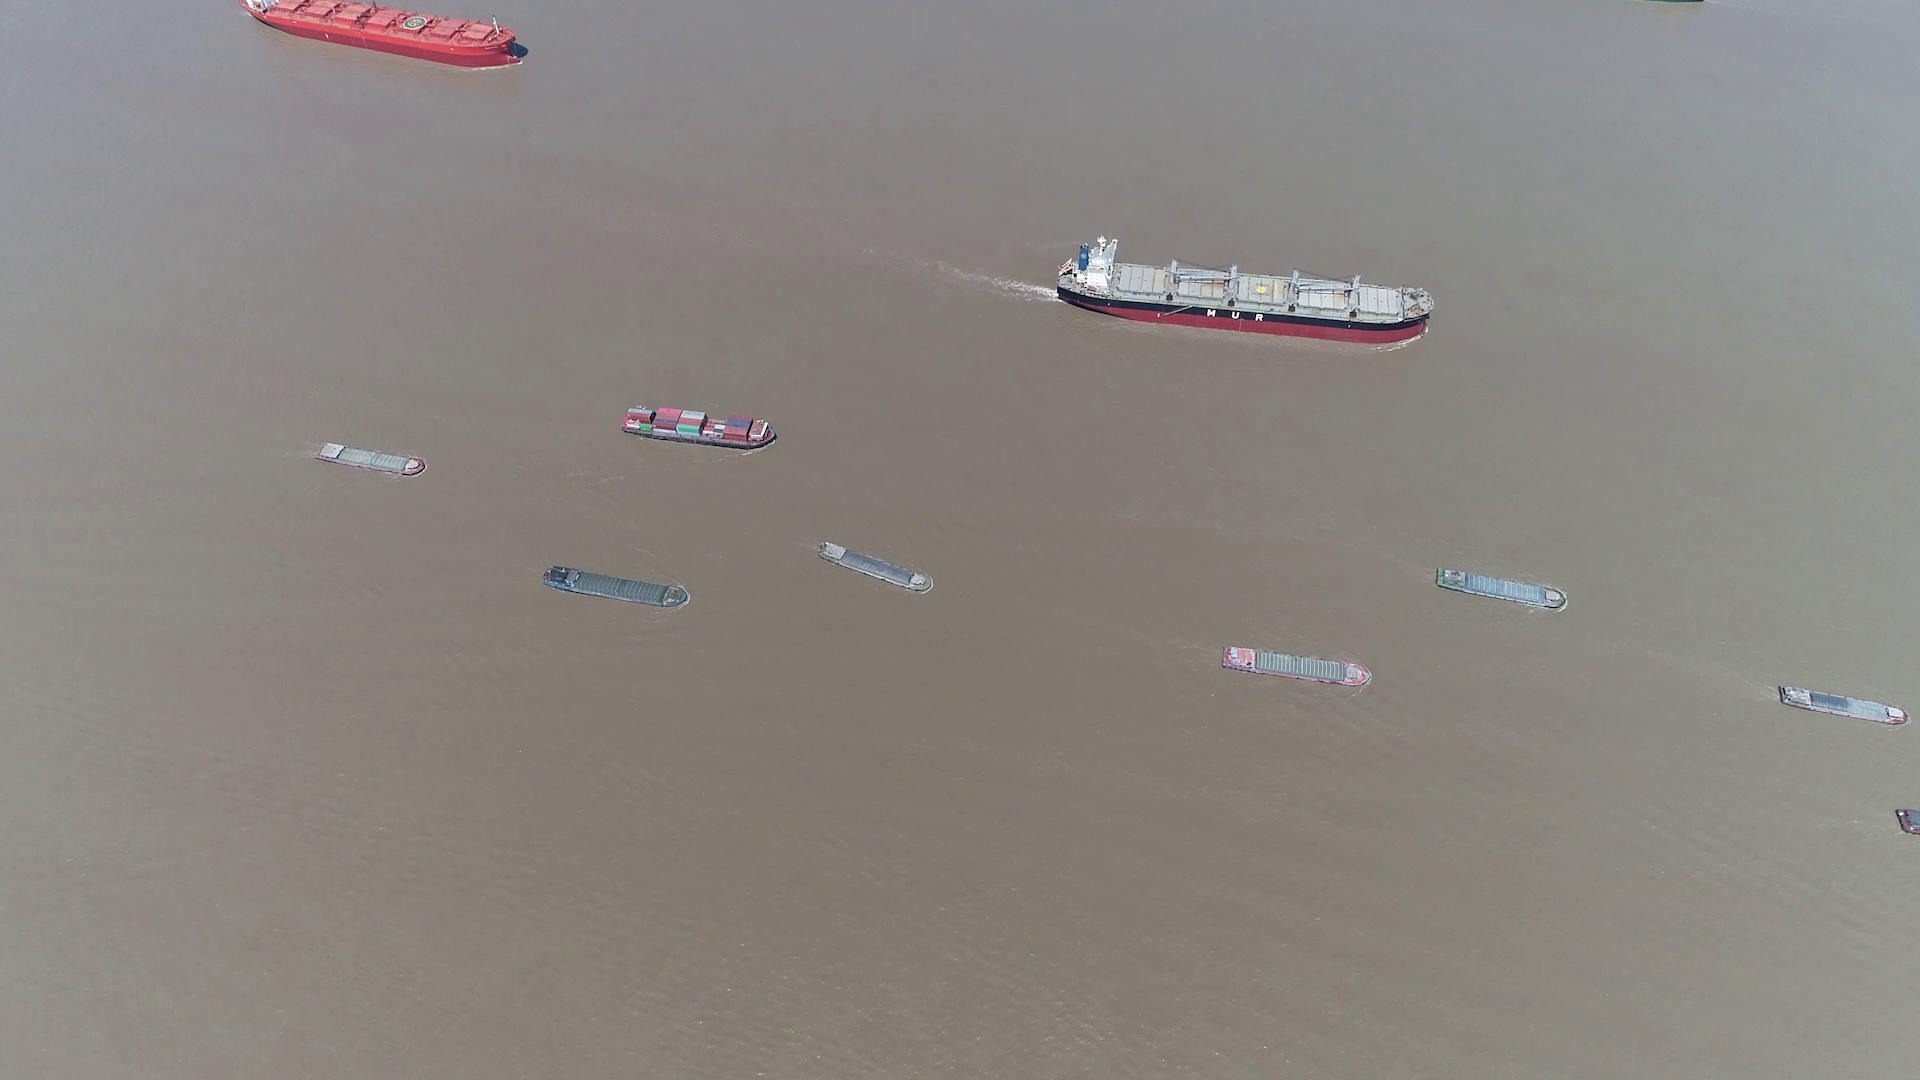ship: (1058, 240, 1437, 343), (245, 0, 525, 69), (622, 406, 778, 448), (541, 564, 691, 608), (1221, 646, 1373, 688), (820, 543, 934, 593), (1776, 684, 1909, 727), (1433, 567, 1567, 609), (315, 442, 429, 477), (1656, 0, 1702, 7)
